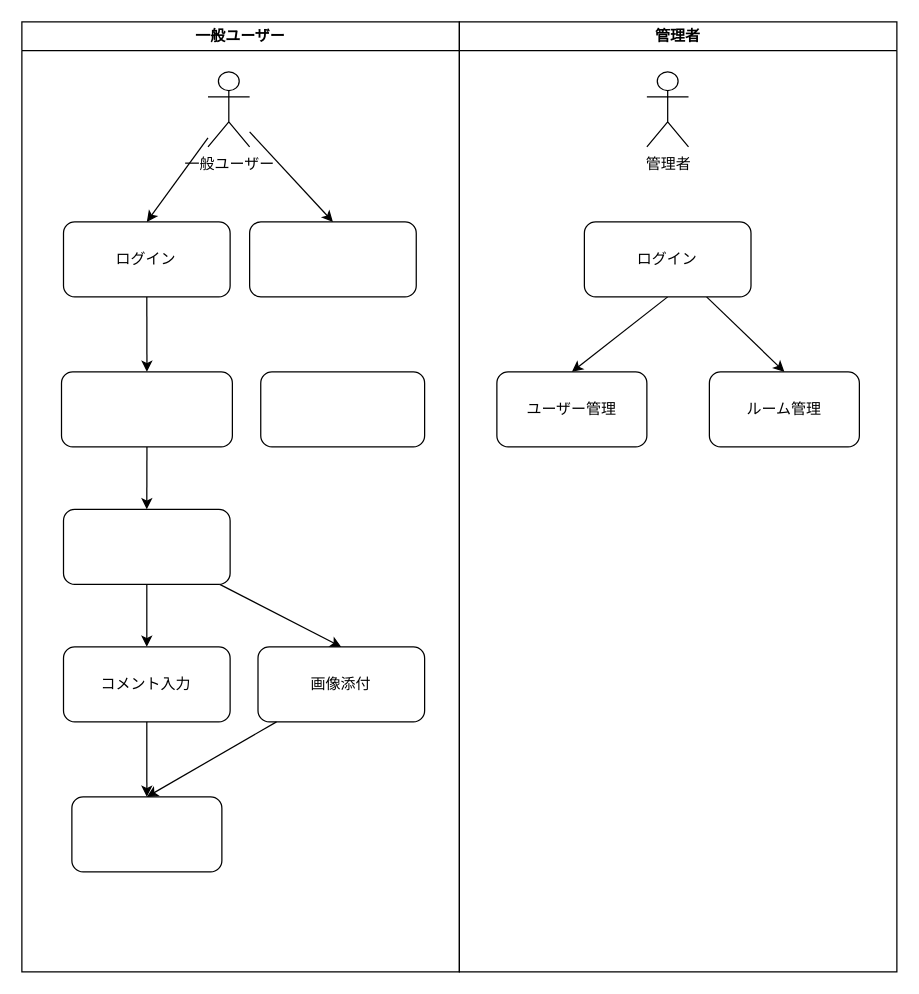
Some shapes in this 919 by 994 pixel diagram are drawn without their labels. The centre of each missing label's shape, as x and y in pixels:
アカウント更新: the point at 342,409
サインアップ: the point at 332,259
チャットルームの作成: the point at 146,409
一覧を選択する: the point at 146,546
投稿: the point at 146,834
